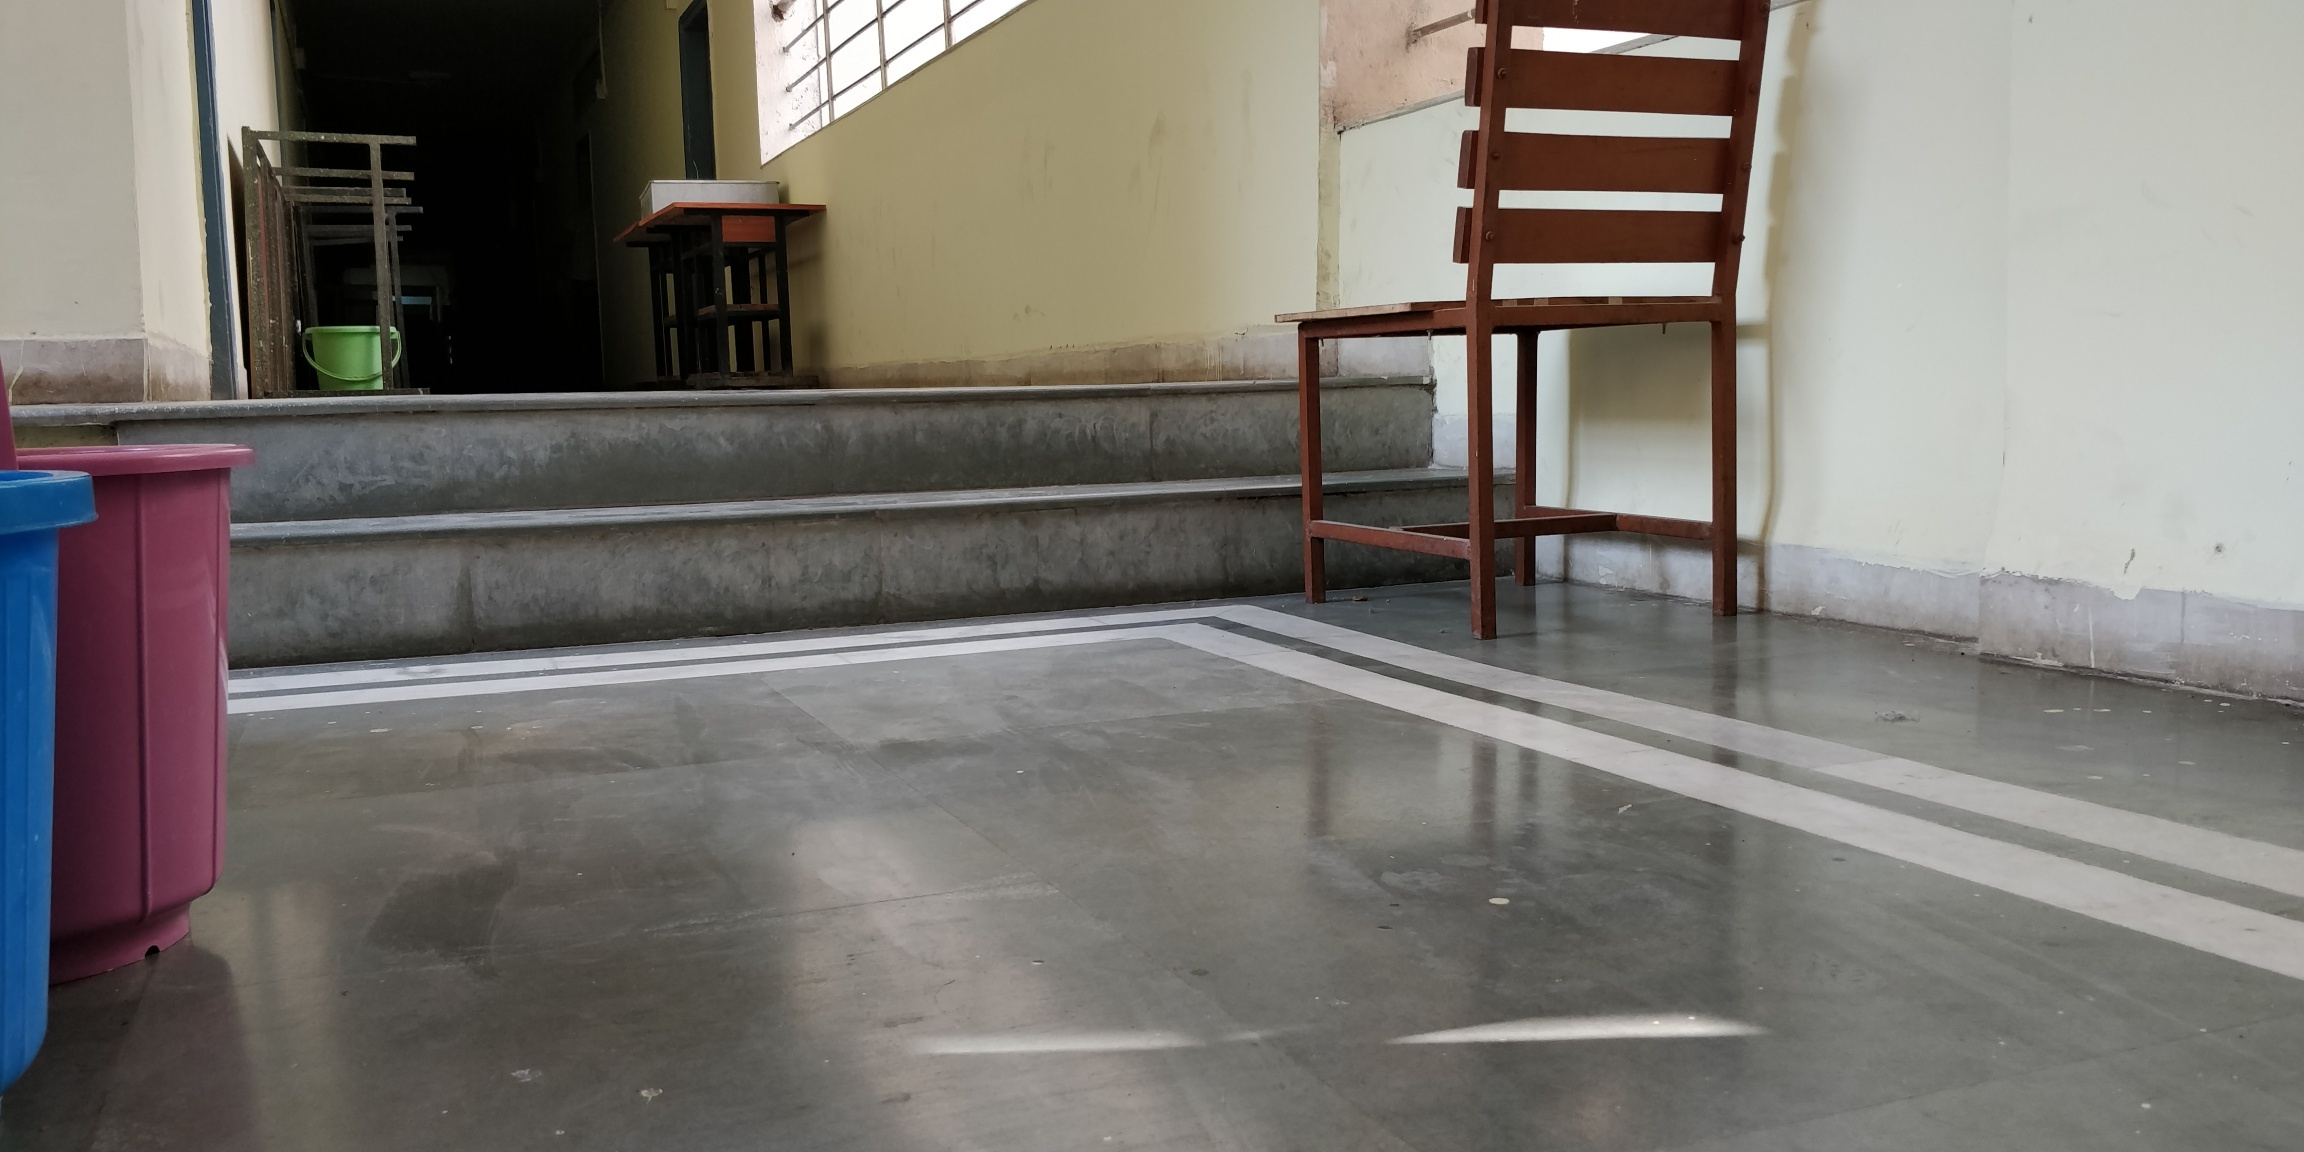stairs_up: (256, 392, 1281, 624)
